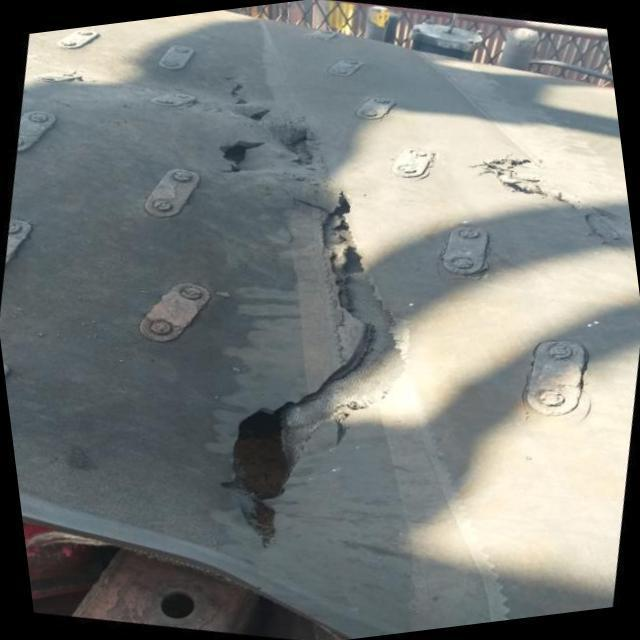Tear: (214, 66, 414, 551), (466, 153, 634, 260)
